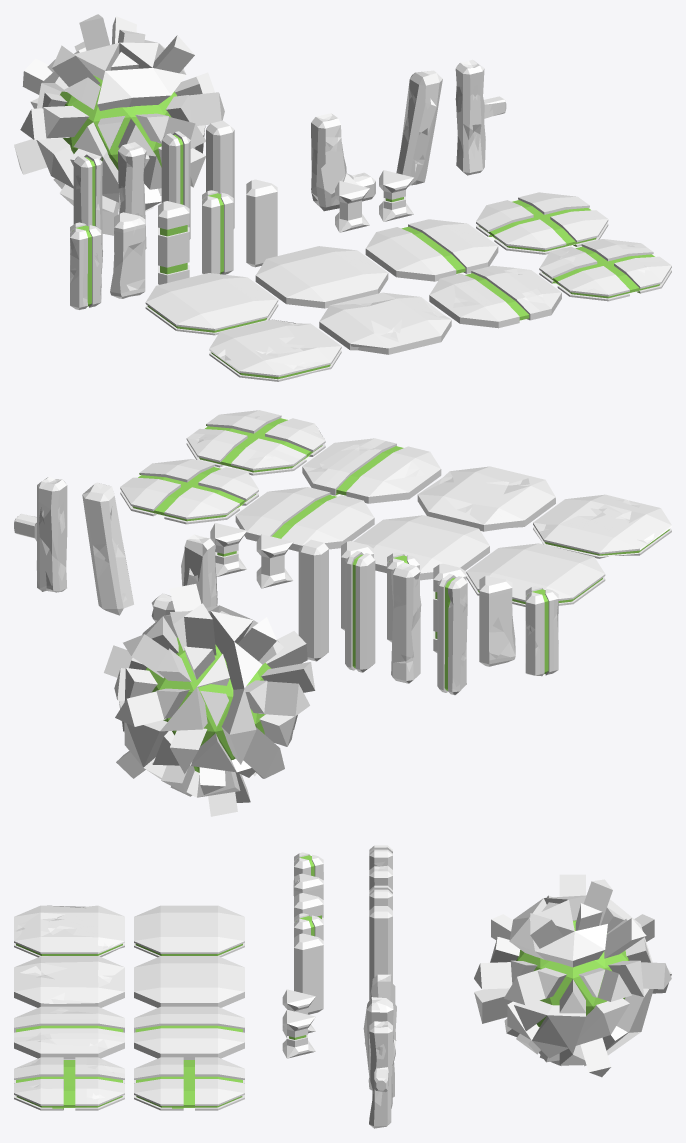
The model's file is levelAssets.fbx.
3 renders of one model, top to bottom at view 1: azimuth 30°, elevation 25°; view 2: azimuth 150°, elevation 25°; view 3: azimuth 270°, elevation 25°, orthographic. The views are drawn at different scales.
Visible parts, largest first — view 1: Icosphere, Plane.005, Plane.006, Plane.007, Plane.004, Plane, Plane.001, Plane.002, Plane.003, Pillar.003, Pillar.001, Pillar.002 (+12 smaller); view 2: Icosphere, Plane.003, Plane.006, Plane.004, Plane.007, Plane.005, Plane.001, Plane.002, Plane, Pillar.001, Pillar.003, Pillar.006 (+12 smaller); view 3: Icosphere, Plane.003, Plane.004, Plane.001, Plane.006, Plane.002, Plane.007, Plane, Plane.005, Pillar.003, Triangle, Icosphere.001 (+12 smaller).
Boxes of the visible parts, <box> form: Icosphere: <box>14,14,224,235</box>; Plane.005: <box>209,319,341,381</box>; Plane.006: <box>429,265,561,328</box>; Plane.007: <box>319,292,451,354</box>; Plane.004: <box>539,239,671,301</box>; Plane: <box>255,246,388,308</box>; Plane.001: <box>365,219,498,281</box>; Plane.002: <box>145,273,278,335</box>; Plane.003: <box>476,192,608,254</box>; Pillar.003: <box>455,59,506,175</box>; Pillar.001: <box>396,70,442,186</box>; Pillar.002: <box>311,113,375,211</box>; Icosphere: <box>104,584,315,816</box>; Plane.003: <box>120,459,258,524</box>; Plane.006: <box>302,438,441,503</box>; Plane.004: <box>186,410,325,475</box>; Plane.007: <box>417,466,555,531</box>; Plane.005: <box>533,494,671,558</box>; Plane.001: <box>235,487,374,551</box>; Plane.002: <box>466,543,605,606</box>; Plane: <box>353,515,489,580</box>; Pillar.001: <box>82,482,133,615</box>; Pillar.003: <box>14,476,67,592</box>; Pillar.006: <box>345,551,375,672</box>; Icosphere: <box>474,874,671,1077</box>; Plane.003: <box>134,1057,244,1110</box>; Plane.004: <box>14,1057,124,1110</box>; Plane.001: <box>134,1006,244,1059</box>; Plane.006: <box>14,1006,124,1059</box>; Plane.002: <box>134,905,244,957</box>; Plane.007: <box>14,956,124,1007</box>; Plane: <box>134,956,244,1007</box>; Plane.005: <box>14,905,124,957</box>; Pillar.003: <box>369,1021,395,1128</box>; Triangle: <box>294,933,323,1014</box>; Icosphere.001: <box>516,920,629,1026</box>.
Bounding box in the file's own units: 10982 × 3483 × 8636.
